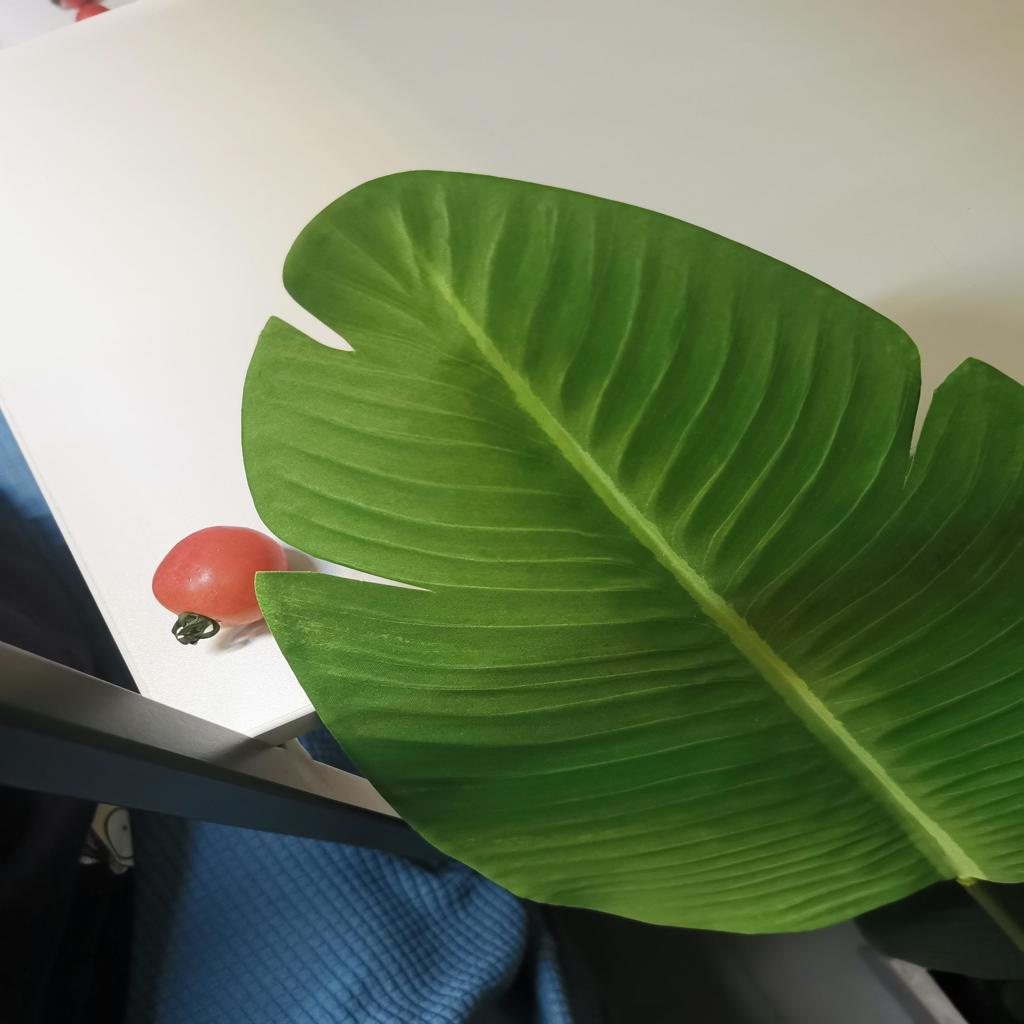tomato: (147, 519, 297, 644)
